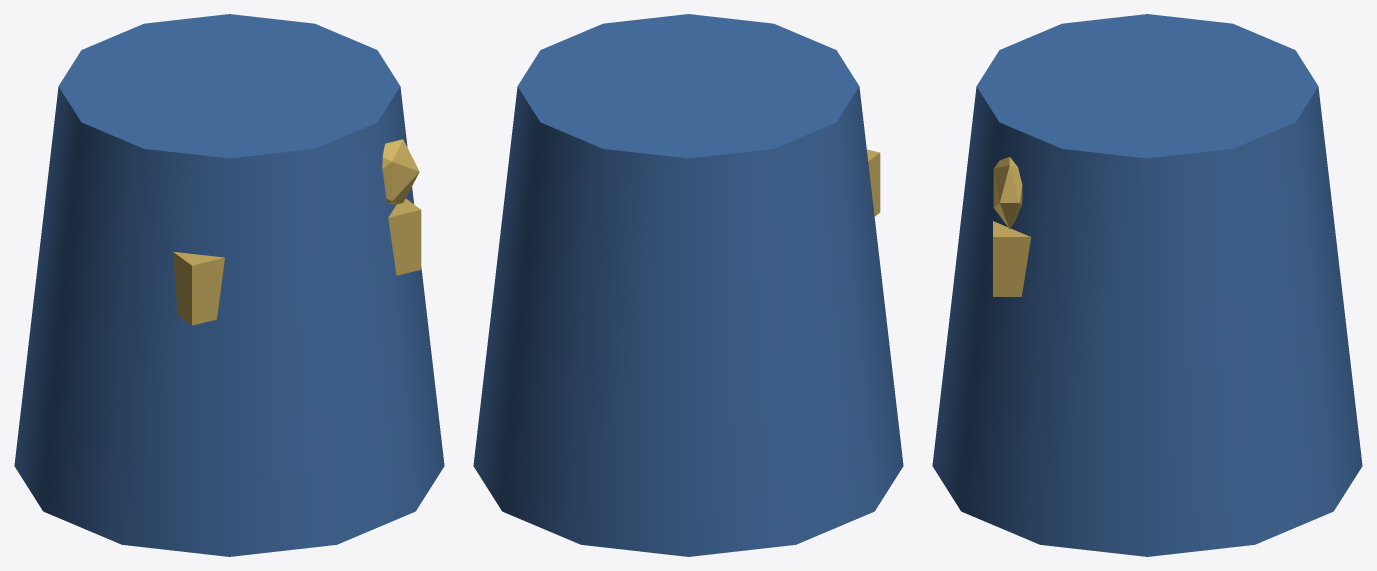
The model's file is craftsperson_outfit.glb.
3 views of the same model, side by side, from view 1: azimuth 30°, elevation 25°; view 2: azimuth 150°, elevation 25°; view 3: azimuth 270°, elevation 25° (orthographic).
Parts seen in each view (by area): view 1: outfit_torso, outfit_trim, outfit_badge; view 2: outfit_torso, outfit_trim; view 3: outfit_torso, outfit_trim, outfit_badge.
Boxes of the visible parts, bbox=[...] form: outfit_torso: bbox=[14, 14, 444, 556]; outfit_trim: bbox=[173, 198, 421, 325]; outfit_badge: bbox=[382, 139, 419, 204]; outfit_torso: bbox=[473, 14, 903, 556]; outfit_trim: bbox=[867, 149, 880, 216]; outfit_torso: bbox=[932, 14, 1362, 556]; outfit_trim: bbox=[993, 221, 1031, 296]; outfit_badge: bbox=[993, 157, 1022, 228].
Bounding box in the file's own units: 0.78 × 0.76 × 0.78.
